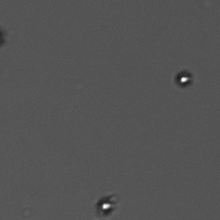Living Cell: (172, 68, 197, 90), (92, 197, 118, 216)
